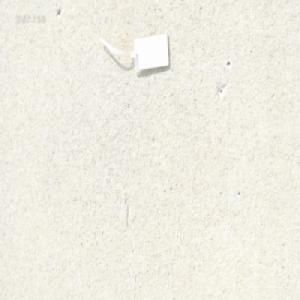LuggageTag: (98, 30, 171, 76)
